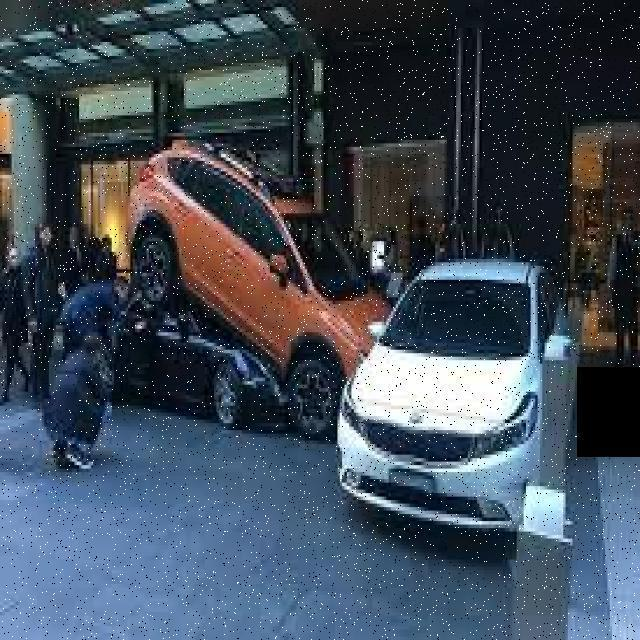multiple_accident: (48, 80, 398, 468)
normal: (347, 178, 572, 577)
